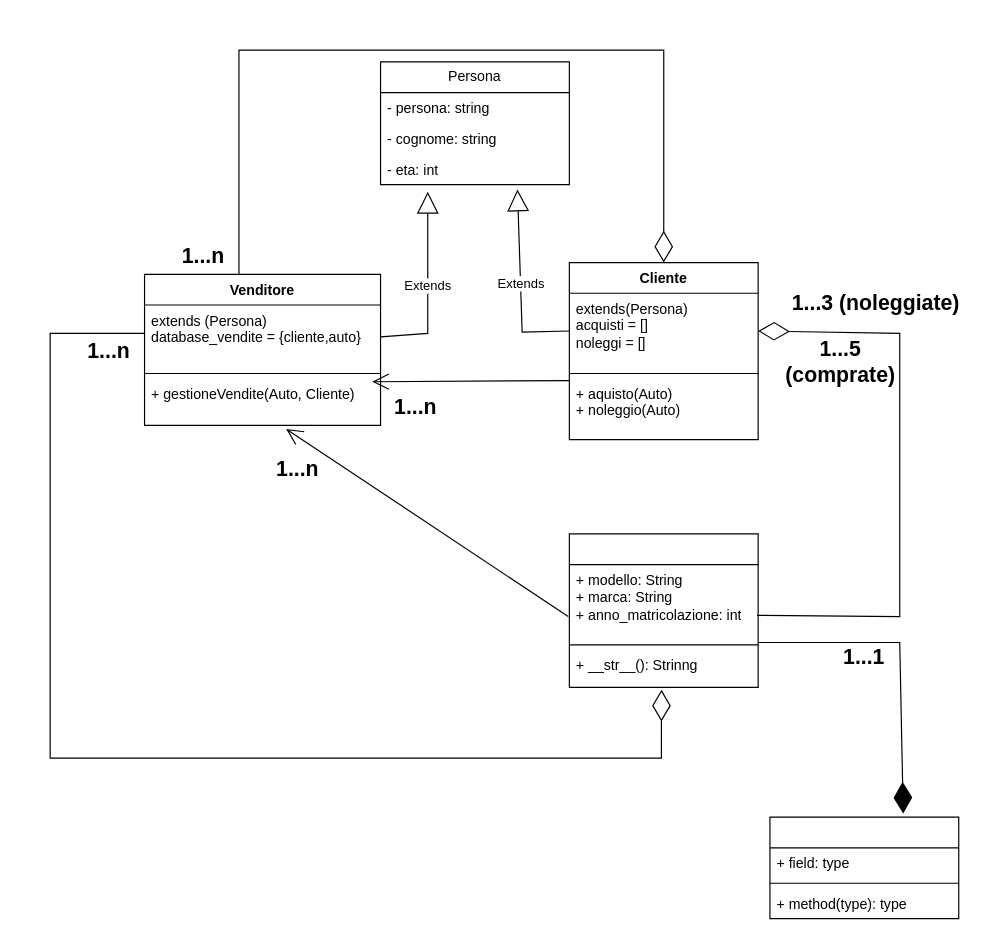
Image size: 991x943. Some labels were removed from this diagram. The shapes that lost their labels are listed below. From the top down, each one's box as (x1, y1, x2, y2) in pixels, then its label:
(568, 533, 758, 687): Auto
(769, 816, 959, 919): Scheda tecnica
